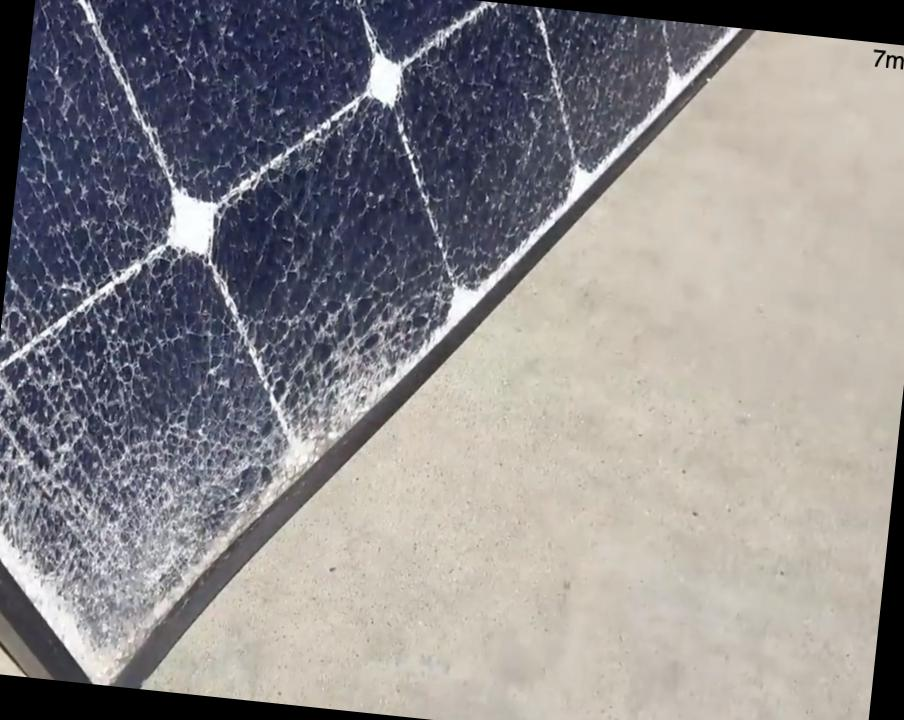Crack: (0, 293, 295, 635), (258, 251, 450, 452)
